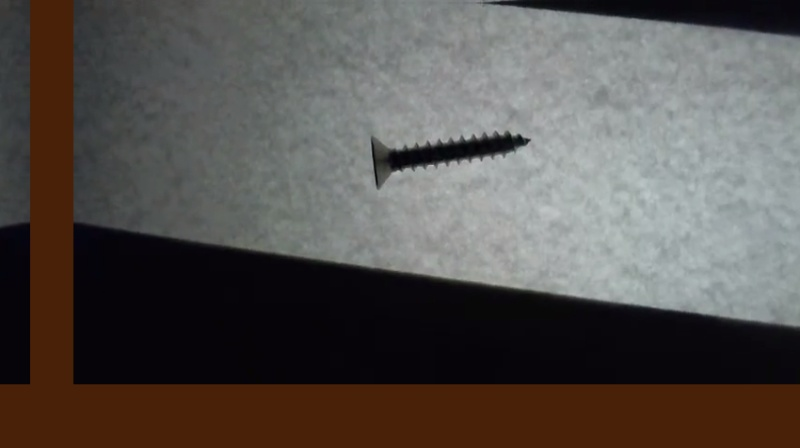S001: (366, 123, 534, 193)
